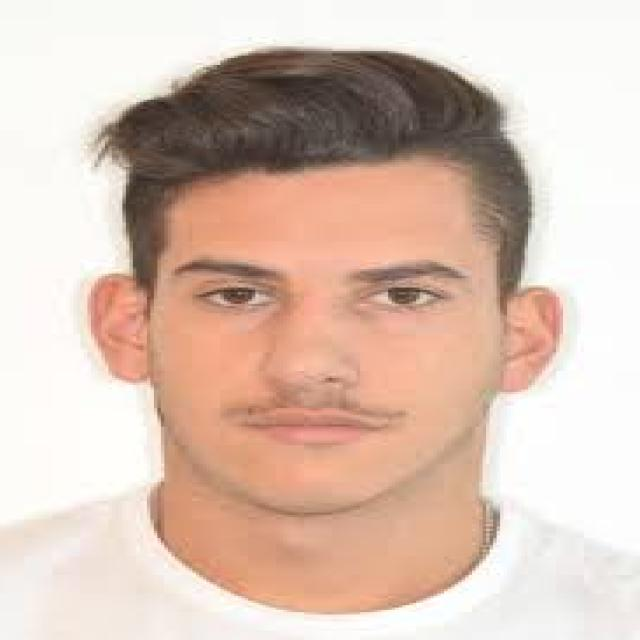normal_face: (96, 70, 513, 522)
